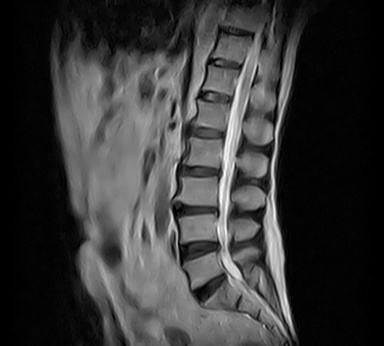L1,v2: (186, 97, 237, 131)
L1-L2,v1: (185, 113, 230, 151)
L2,v2: (181, 133, 230, 167)
L2-L3,v1: (173, 153, 227, 188)
L3,v2: (170, 172, 229, 208)
L3-L4,v2: (169, 191, 224, 226)
L4,v2: (170, 207, 222, 243)
L4-L5,v2: (171, 228, 226, 267)
L5,v2: (174, 249, 228, 286)
L5-S1,v2: (184, 267, 232, 304)
T12-L1,v2: (187, 79, 240, 114)
